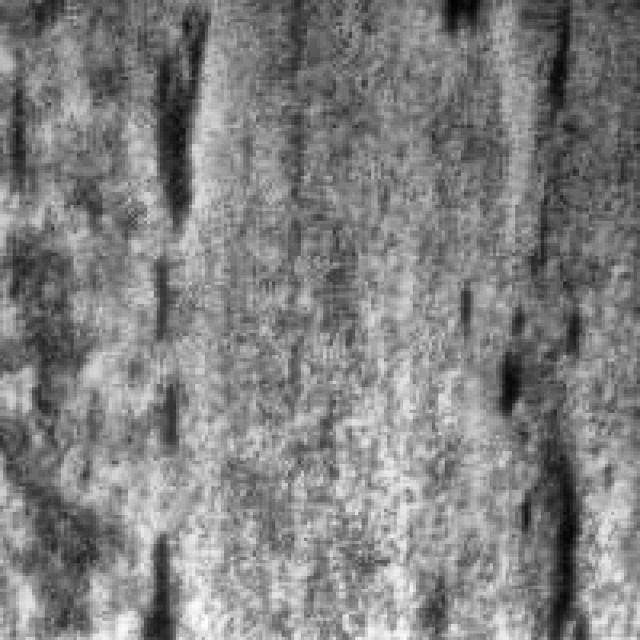Patches: (467, 272, 602, 627), (0, 208, 102, 633), (121, 0, 212, 234), (121, 243, 186, 444), (124, 516, 180, 630), (538, 0, 580, 99), (144, 368, 186, 464)
